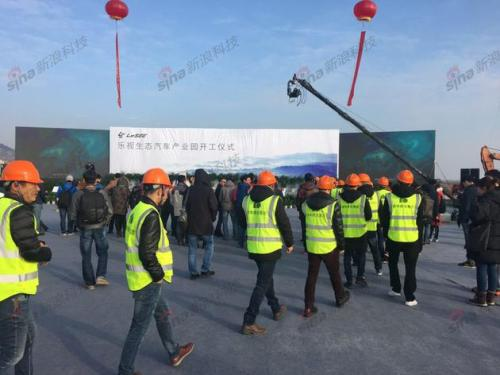boots: (168, 341, 194, 366), (241, 322, 266, 334), (336, 289, 350, 307), (273, 303, 287, 320), (303, 306, 317, 317), (355, 276, 367, 287), (115, 371, 142, 375), (404, 299, 417, 306), (388, 289, 401, 295), (376, 269, 383, 276)
gloves: (150, 266, 165, 282)
hard-hat: (1, 160, 44, 184), (142, 167, 172, 186), (257, 170, 277, 186), (396, 170, 414, 183), (318, 175, 333, 190), (345, 173, 361, 186), (358, 173, 373, 186), (378, 176, 389, 186)
person: (115, 167, 195, 375), (1, 159, 52, 374), (240, 170, 295, 336), (301, 174, 351, 317), (378, 170, 426, 306), (341, 172, 376, 286)
vest: (124, 197, 178, 294), (0, 193, 43, 304), (243, 192, 289, 260), (303, 198, 338, 254), (391, 192, 420, 242), (341, 192, 368, 242)
